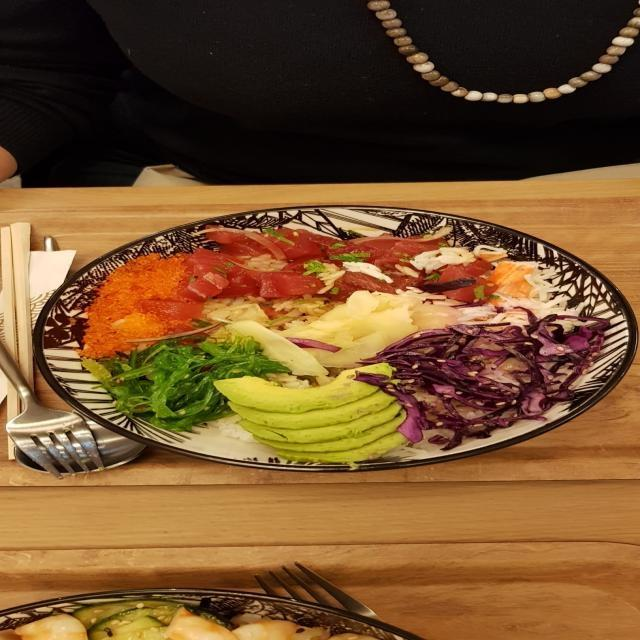avocado: (210, 366, 411, 464)
cabbage: (360, 316, 607, 444)
tomato: (185, 228, 481, 299)
